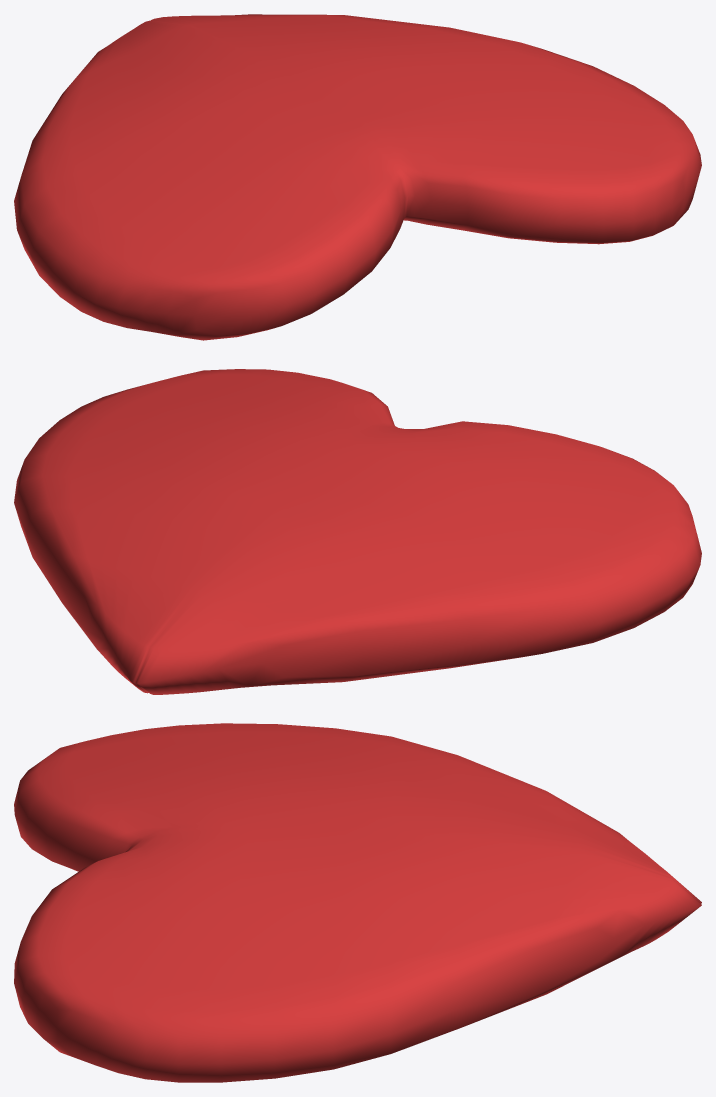
File: heart.fbx
The picture shows the model from 3 angles, top to bottom: view 1: azimuth 30°, elevation 25°; view 2: azimuth 150°, elevation 25°; view 3: azimuth 270°, elevation 25°; orthographic projection. The views are drawn at different scales.
Parts seen in each view (by area): view 1: pPlane1; view 2: pPlane1; view 3: pPlane1.
Boxes of the visible parts, x1=… form: pPlane1: x1=14, y1=14, x2=701, y2=340; pPlane1: x1=14, y1=369, x2=701, y2=694; pPlane1: x1=14, y1=723, x2=701, y2=1082.
Bounding box in the file's own units: 50.64 × 8.22 × 46.04.
